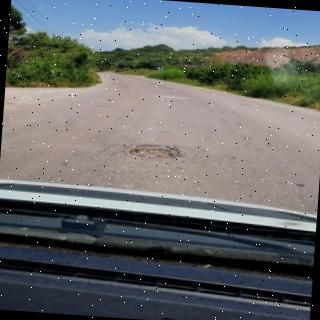pothole: (129, 144, 181, 160)
